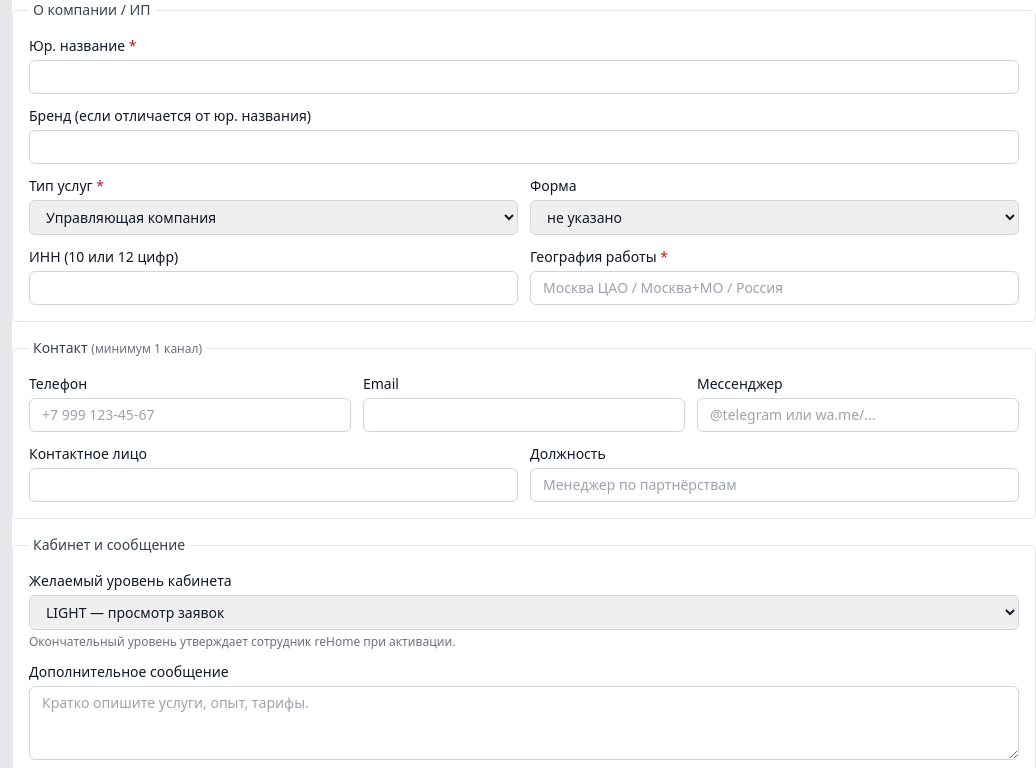
Test case: OnboardingForm › submit без контакта показывает local error и не вызывает fetch
In the field labelled "Юр. название *": (524, 77) 29,60 -> 1019,94, type "ООО Тест"
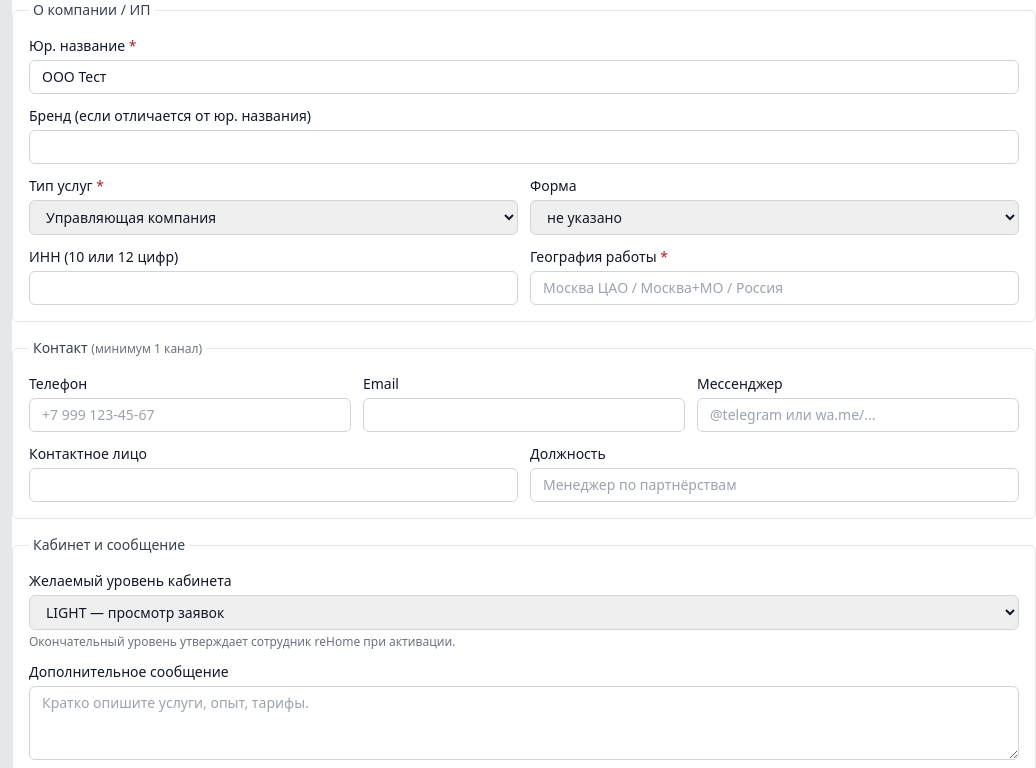
In the field labelled "География работы *": (774, 288) 530,271 -> 1019,305, type "Москва"
(page scrolled)
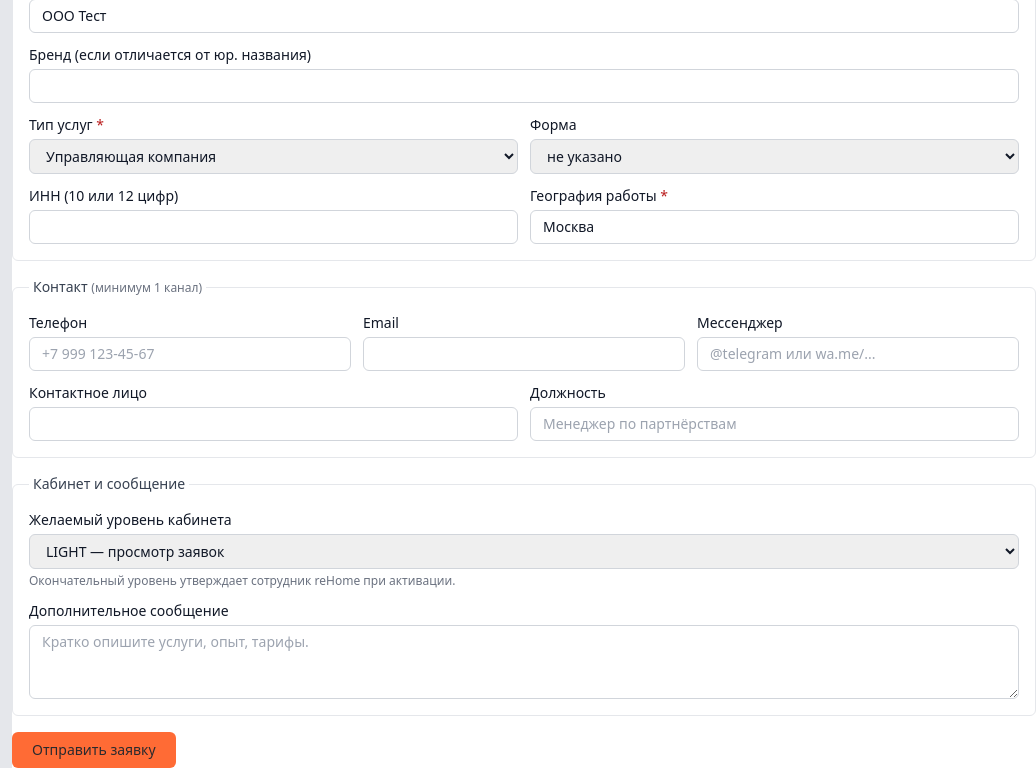
Submit the form from the button "Отправить заявку", box 12,732 -> 176,767
(page scrolled)
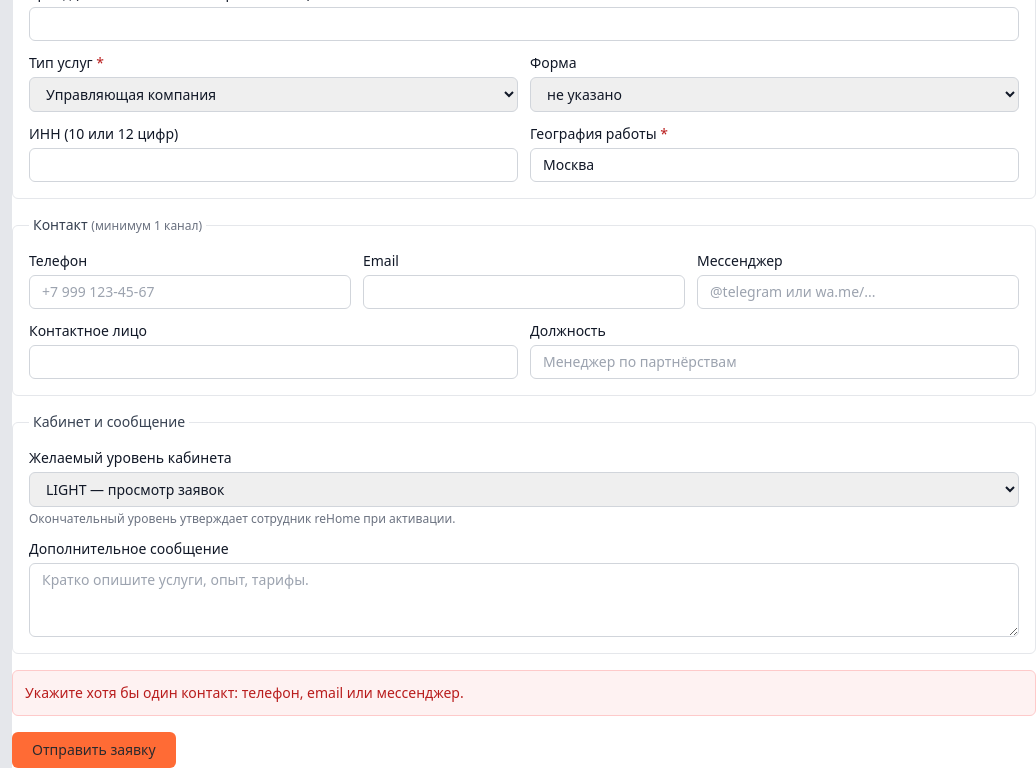
Expected: the message shows "хотя бы один контакт", 25,683 -> 464,702
